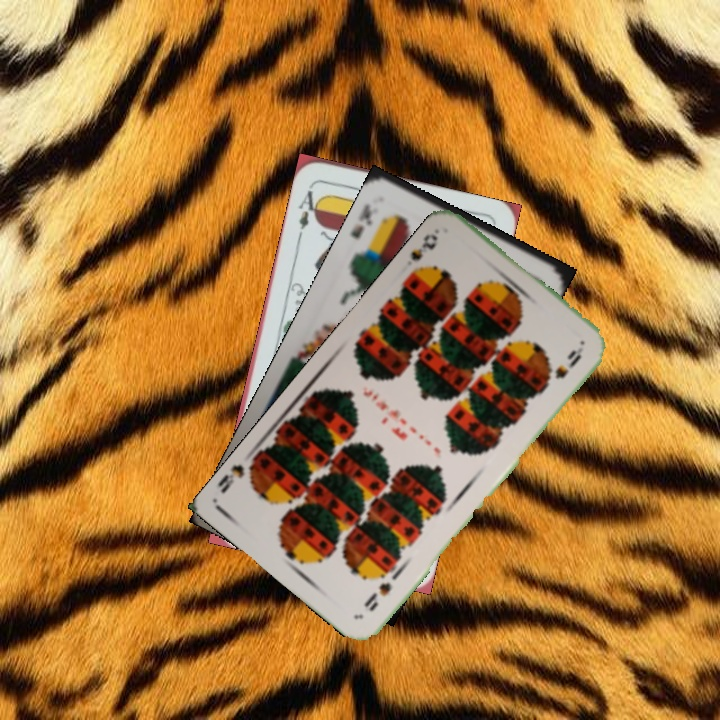EA: (293, 181, 324, 240)
EK: (347, 199, 376, 242)
S9: (360, 566, 401, 614), (405, 229, 441, 280)
